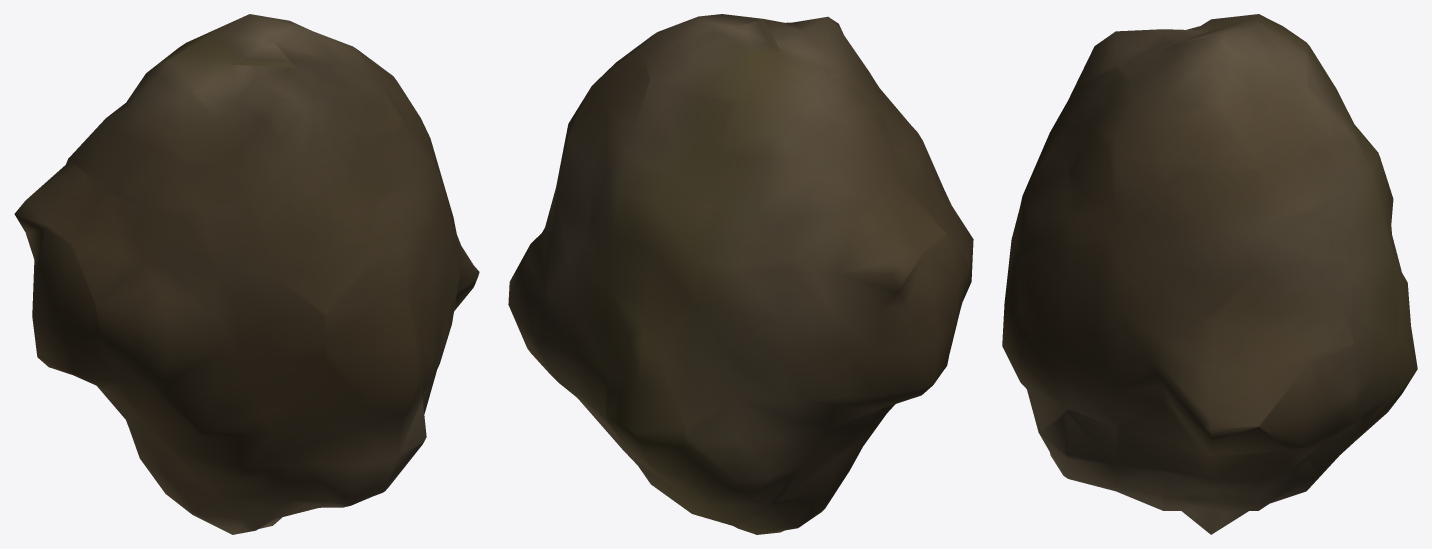
The model's file is AstrFBX2.fbx.
The picture shows the model from 3 angles, left to right: view 1: azimuth 30°, elevation 25°; view 2: azimuth 150°, elevation 25°; view 3: azimuth 270°, elevation 25°; orthographic projection. The views are drawn at different scales.
Visible parts, largest first — view 1: polySurface1; view 2: polySurface1; view 3: polySurface1.
Part boxes in pixels (box(x1,y1,x2,y2)): polySurface1: box(14, 14, 479, 534); polySurface1: box(508, 14, 973, 534); polySurface1: box(1002, 14, 1417, 534).
Bounding box in the file's own units: 2.08 × 2.32 × 1.71.
Materials: 1 (1 with a texture image).
